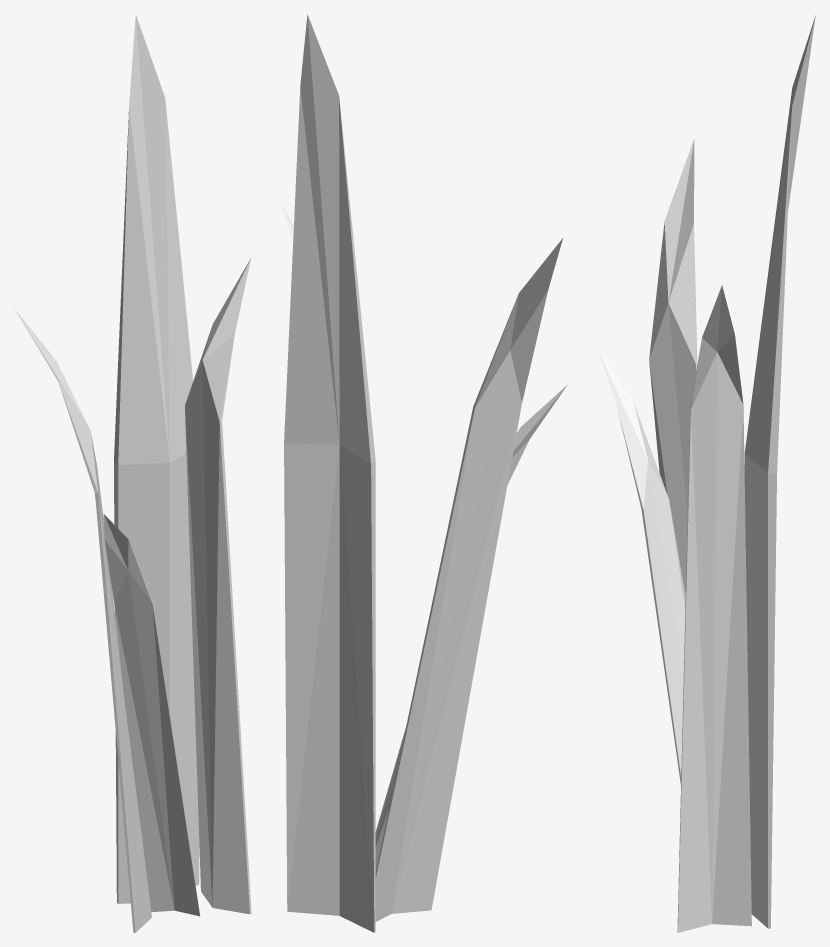
The model's file is Env_Grass_Patch_Yellow_01.glb.
3 views of the same model, side by side, from view 1: azimuth 30°, elevation 25°; view 2: azimuth 150°, elevation 25°; view 3: azimuth 270°, elevation 25° (orthographic). The views are drawn at different scales.
Visible parts, largest first — view 1: Env_Grass_Patch_Yellow_01; view 2: Env_Grass_Patch_Yellow_01; view 3: Env_Grass_Patch_Yellow_01.
Part boxes in pixels (x1,y1,x2,y2): Env_Grass_Patch_Yellow_01: (15,14,251,932); Env_Grass_Patch_Yellow_01: (280,14,567,932); Env_Grass_Patch_Yellow_01: (597,15,815,932).
Bounding box in the file's own units: 0.1145 × 0.3771 × 0.0837.
1 material, 1 textured.
